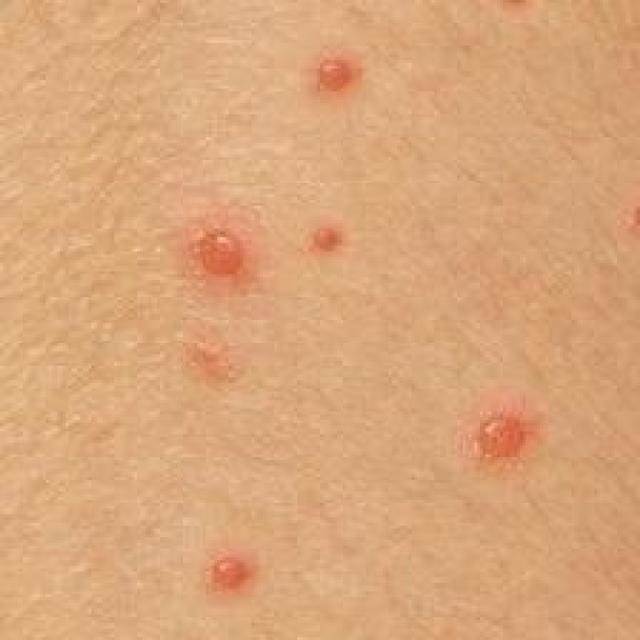others: (120, 0, 558, 617)
